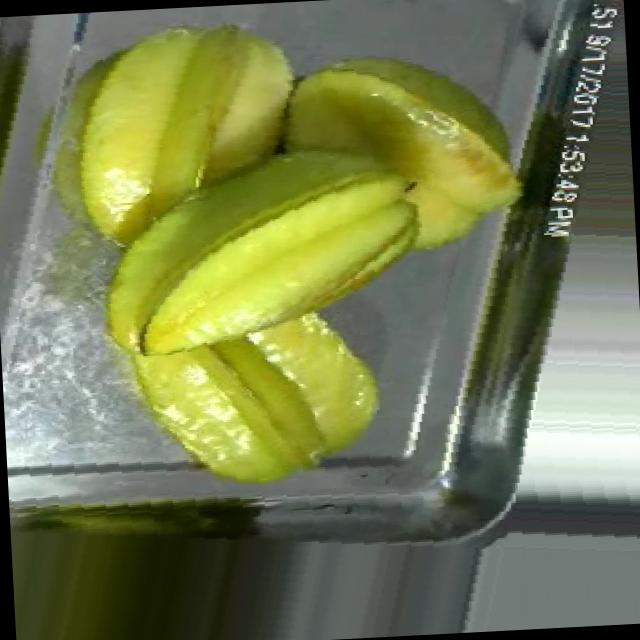fruit: (126, 10, 563, 377), (35, 0, 338, 270), (123, 302, 408, 502), (438, 491, 640, 634)
